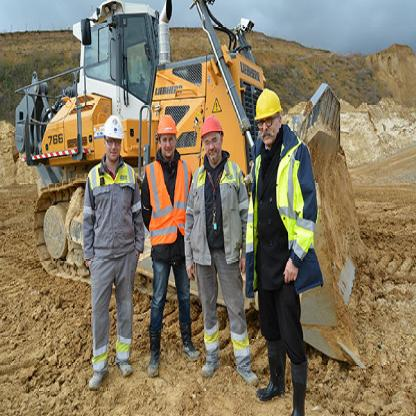bull_dozer/loader/grader: (5, 0, 396, 370)
person: (246, 94, 325, 414), (184, 111, 254, 390), (78, 106, 146, 383), (140, 96, 197, 382)
